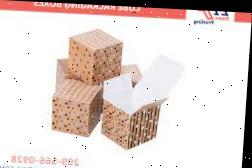cube: (68, 27, 124, 83), (51, 79, 104, 137)
